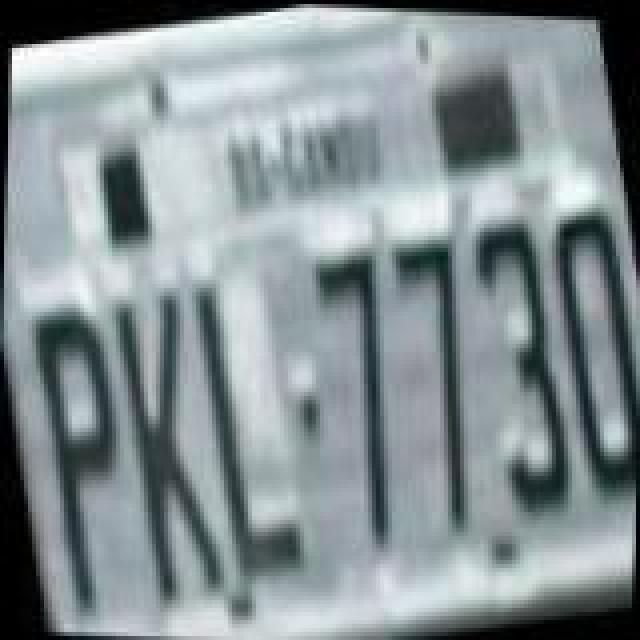3: (450, 210, 586, 518)
7: (374, 224, 502, 532), (302, 240, 430, 540)
K: (102, 286, 242, 610)
L: (176, 274, 312, 582)
O: (528, 190, 640, 498)
P: (14, 296, 154, 616)
